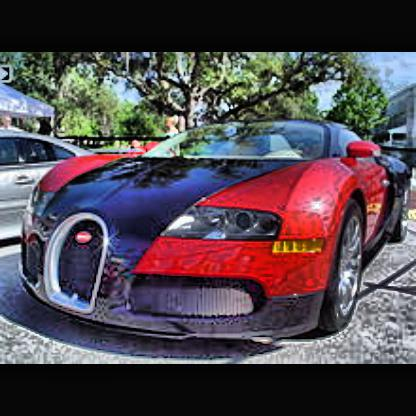Bugatti Veyron 16-4 Coupe 2009: (20, 121, 415, 346)
